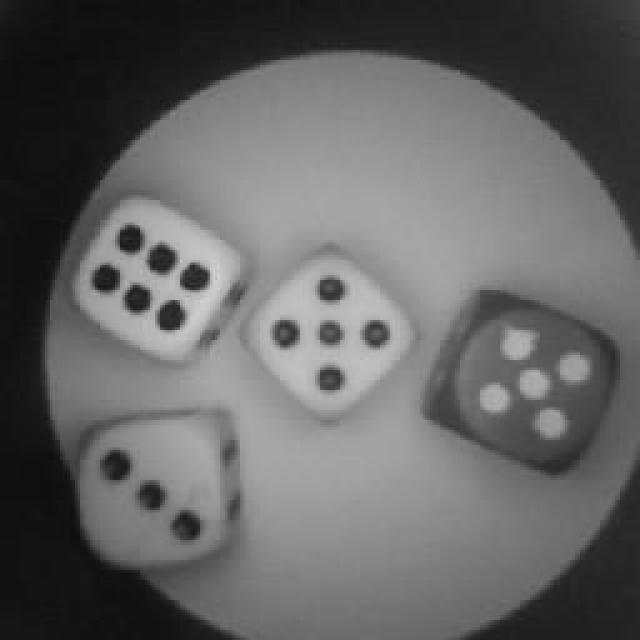dice_3: (70, 408, 248, 572)
dice_5: (440, 290, 622, 472), (248, 250, 408, 418)
dice_6: (75, 197, 250, 365)
